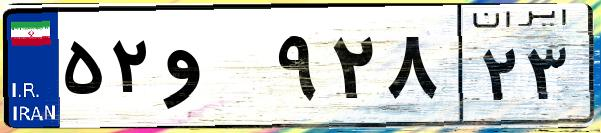2: (330, 28, 385, 110), (475, 38, 525, 113), (110, 28, 158, 98)
3: (525, 38, 570, 115)
5: (57, 26, 110, 100)
8: (385, 28, 445, 110)
9: (270, 28, 330, 110)
و: (158, 20, 270, 120)
